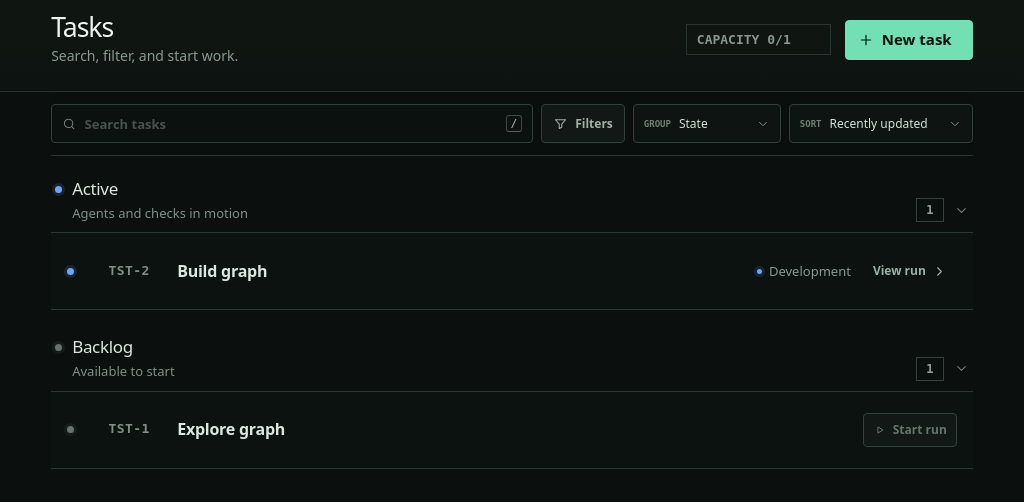
Scenario: WorkBoard › filters by state and exposes removable filter chips
What coordinates should you click on to do the following:
click the button "Filters"
I would click on:
 (583, 124)
Its box is left=541, top=104, right=625, bottom=143.
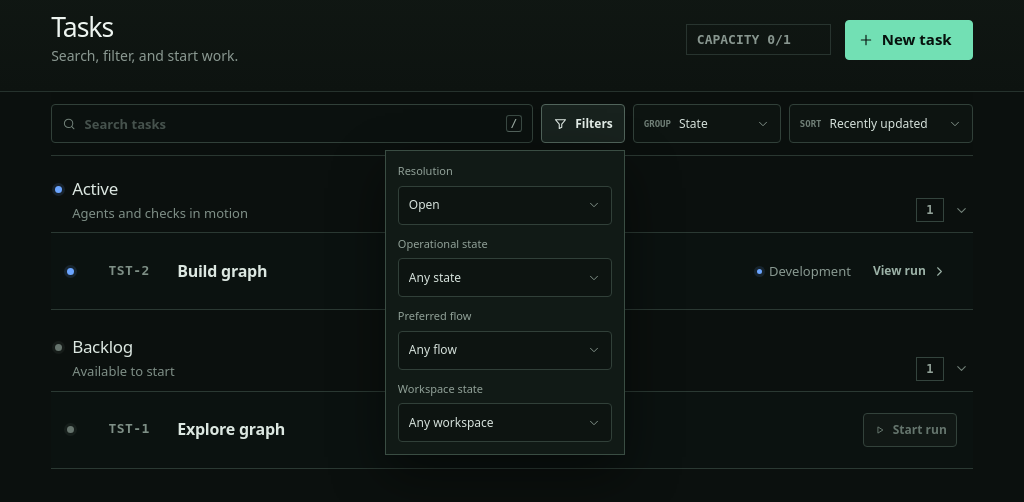
What coordinates should you click on to do the following:
click the dropdown named "Operational state"
I would click on:
 (505, 278)
Its box is left=398, top=258, right=612, bottom=297.
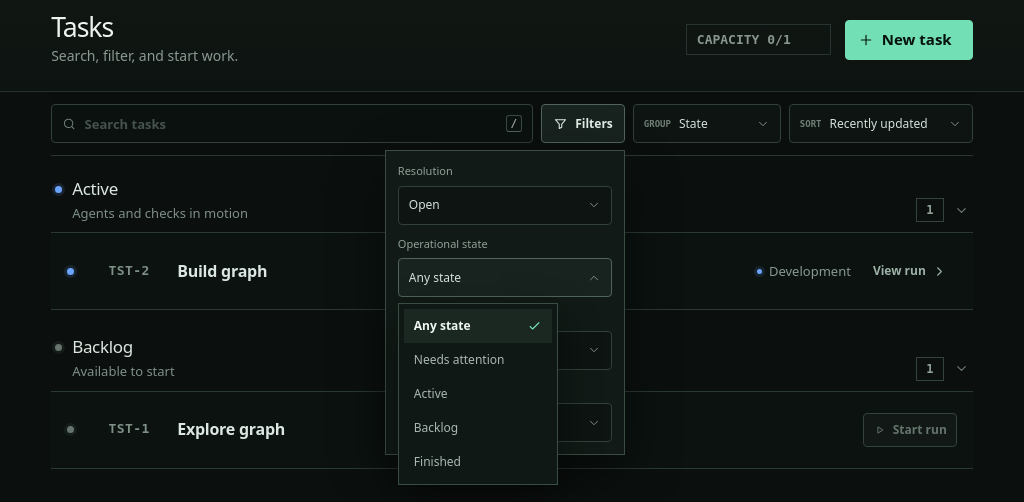
What coordinates should you click on to do the following:
click the option "Active"
I would click on:
 (431, 394)
Its box is left=414, top=385, right=448, bottom=402.
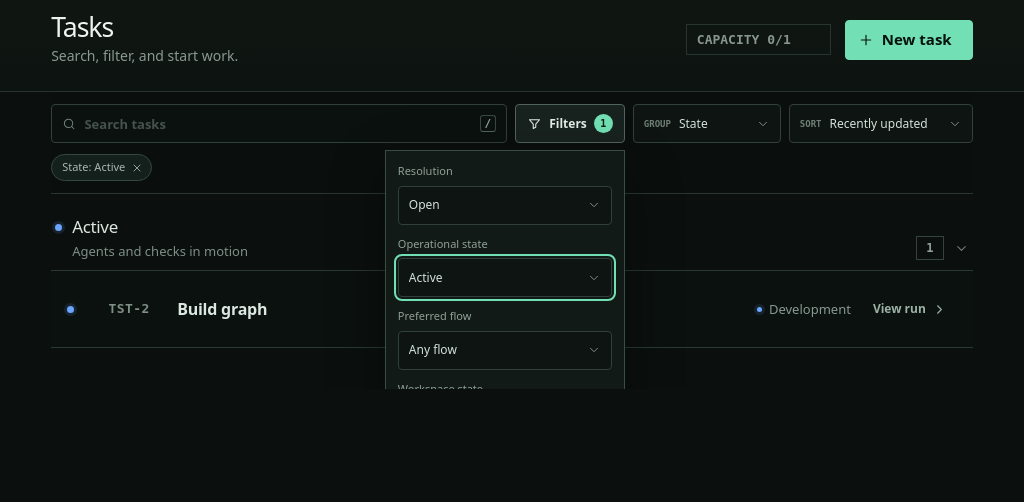
Expected: the text "Build graph" is shown, left=177, top=298, right=267, bottom=320
Result: the button "Explore graph" is gone
What coordinates should you click on to do the following:
click the button "State: Active"
I would click on:
 (102, 168)
Its box is left=51, top=154, right=152, bottom=181.
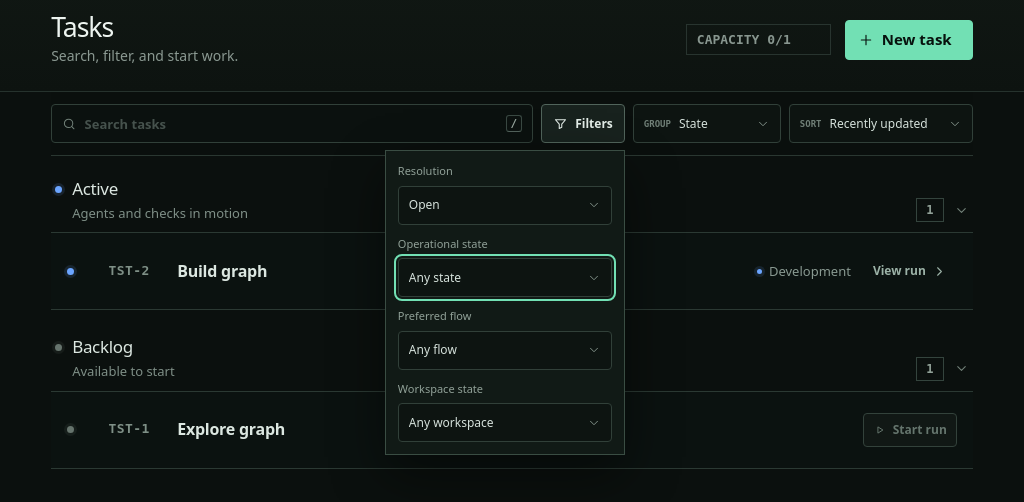
Result: the text "Explore graph" is shown at left=177, top=418, right=285, bottom=440
